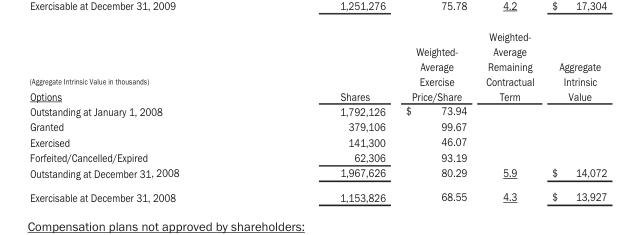table: (28, 29, 606, 204)
table column: (28, 29, 258, 204), (258, 29, 395, 204), (395, 29, 475, 204), (475, 29, 542, 204), (542, 29, 606, 204)
table column header: (28, 29, 606, 103)
table row: (28, 29, 606, 103), (28, 184, 606, 204), (28, 165, 606, 184), (28, 118, 606, 134), (28, 149, 606, 165), (28, 103, 606, 118), (28, 134, 606, 149)
